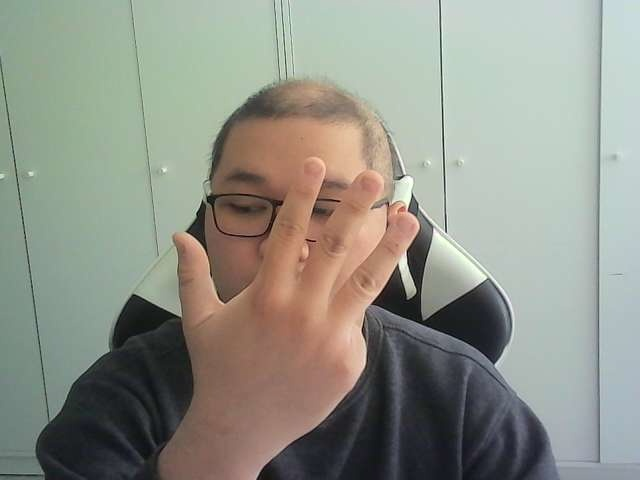Four: (173, 156, 421, 440)
